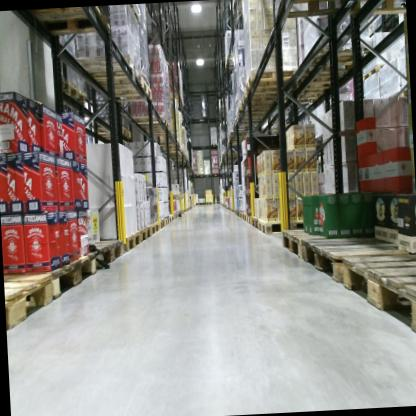pallet: (340, 249, 416, 342), (302, 230, 409, 295), (22, 6, 120, 39), (40, 251, 101, 303), (65, 49, 142, 89), (5, 272, 55, 331), (81, 71, 154, 107), (270, 0, 362, 27), (279, 226, 332, 260), (302, 43, 365, 71), (242, 68, 297, 93), (93, 234, 125, 275), (57, 72, 90, 110), (257, 213, 309, 235), (350, 0, 406, 19), (239, 91, 280, 107), (92, 123, 131, 139), (120, 229, 143, 255), (357, 61, 383, 84), (236, 100, 269, 116), (130, 117, 169, 129), (232, 111, 268, 124), (232, 116, 265, 130), (141, 124, 174, 137), (138, 222, 153, 244), (222, 52, 237, 70), (157, 140, 181, 150), (147, 220, 160, 237), (156, 217, 165, 232), (251, 215, 259, 230), (165, 212, 174, 225), (246, 213, 253, 227), (235, 209, 243, 220), (163, 216, 170, 226), (242, 212, 247, 223), (171, 212, 177, 221), (211, 171, 219, 175), (205, 201, 212, 205), (197, 173, 204, 176), (204, 172, 211, 175)
